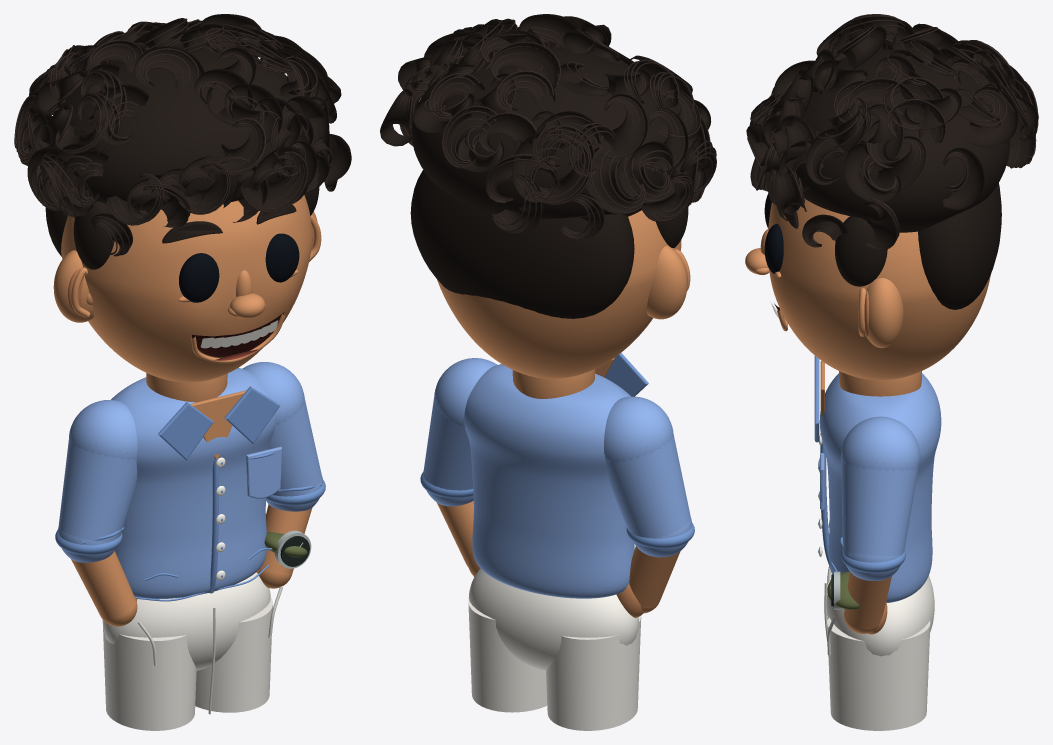
Rendered from sekhar-v2.glb.
The picture shows the model from 3 angles, left to right: view 1: azimuth 30°, elevation 25°; view 2: azimuth 150°, elevation 25°; view 3: azimuth 270°, elevation 25°; orthographic projection. The views are drawn at different scales.
Parts seen in each view (by area): view 1: SculptedHair, Face, Shirt, HairStrands, UpperThigh (×2), Sleeve (×2), Trousers, SleeveEnd (×2), Forearm (×2), Collar (×2), Eye (×2), ChestPocket (+11 smaller); view 2: SculptedHair, Shirt, HairStrands, Face, UpperThigh (×2), Sleeve (×2), Trousers, SleeveEnd (×2), Forearm (×2), Ear, Neck, Collar (+2 smaller); view 3: SculptedHair, Face, HairStrands, Shirt, UpperThigh, Sleeve, SleeveEnd, Trousers, Ear, Forearm, Neck, Eye (+4 smaller).
Part boxes in pixels (x1=…): SculptedHair: x1=15, y1=14, x2=351, y2=269; Face: x1=61, y1=195, x2=312, y2=382; Shirt: x1=111, y1=367, x2=275, y2=599; HairStrands: x1=14, y1=18, x2=336, y2=256; UpperThigh (×2): x1=102, y1=597, x2=272, y2=730; Sleeve (×2): x1=58, y1=393, x2=321, y2=542; Trousers: x1=103, y1=572, x2=270, y2=670; SleeveEnd (×2): x1=69, y1=362, x2=304, y2=459; Forearm (×2): x1=71, y1=504, x2=312, y2=618; Collar (×2): x1=158, y1=386, x2=280, y2=460; Eye (×2): x1=179, y1=233, x2=299, y2=302; ChestPocket: x1=246, y1=446, x2=281, y2=498; SculptedHair: x1=380, y1=14, x2=715, y2=318; Shirt: x1=464, y1=364, x2=634, y2=598; HairStrands: x1=393, y1=19, x2=716, y2=239; Face: x1=437, y1=210, x2=681, y2=378; UpperThigh (×2): x1=468, y1=599, x2=641, y2=730; Sleeve (×2): x1=423, y1=390, x2=690, y2=538; Trousers: x1=468, y1=568, x2=638, y2=671; SleeveEnd (×2): x1=434, y1=358, x2=673, y2=462; Forearm (×2): x1=436, y1=501, x2=680, y2=607; Ear: x1=646, y1=245, x2=687, y2=319; Neck: x1=512, y1=369, x2=595, y2=398; Collar: x1=605, y1=352, x2=648, y2=396; SculptedHair: x1=746, y1=17, x2=1038, y2=309; Face: x1=768, y1=198, x2=990, y2=380; HairStrands: x1=747, y1=14, x2=1038, y2=249; Shirt: x1=819, y1=373, x2=941, y2=602; UpperThigh: x1=827, y1=617, x2=930, y2=730; Sleeve: x1=841, y1=454, x2=919, y2=556; SleeveEnd: x1=840, y1=416, x2=920, y2=470; Trousers: x1=826, y1=575, x2=934, y2=656; Ear: x1=866, y1=278, x2=903, y2=348; Forearm: x1=844, y1=571, x2=891, y2=628; Neck: x1=839, y1=371, x2=921, y2=396; Eye: x1=764, y1=224, x2=783, y2=273.
Bounding box in the file's own units: 1.86 × 3.99 × 1.62.
